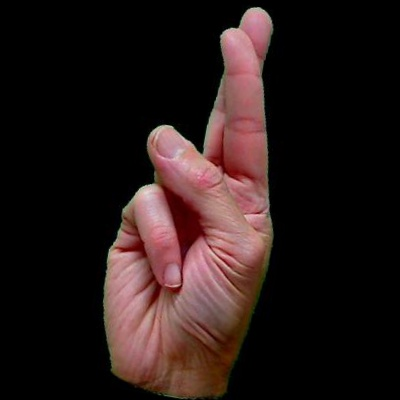r: (1, 1, 400, 399)
